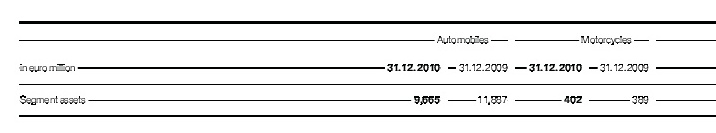table: (0, 0, 716, 133)
